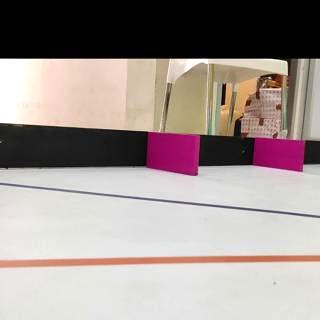xparking: (150, 135, 199, 174), (256, 138, 308, 169)
